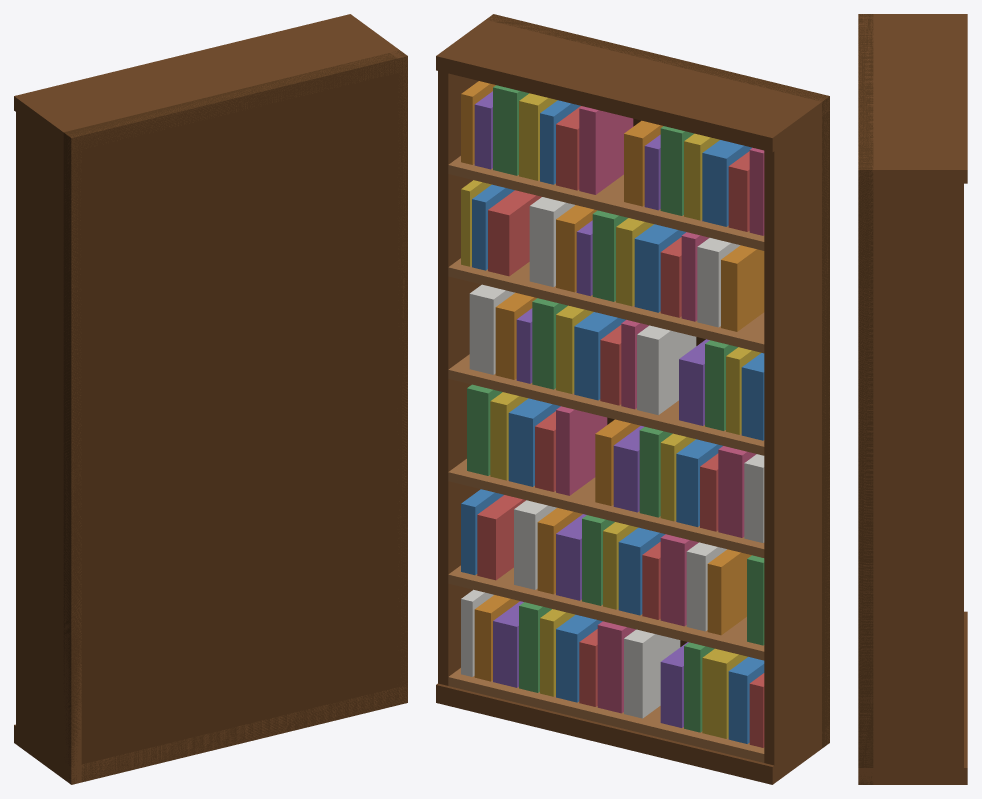
The model's file is ncb-bookcase-tall.glb.
3 views of the same model, side by side, from view 1: azimuth 30°, elevation 25°; view 2: azimuth 150°, elevation 25°; view 3: azimuth 270°, elevation 25° (orthographic). The views are drawn at different scales.
Parts seen in each view (by area): view 1: box-prop; view 2: box-prop; view 3: box-prop.
Boxes of the visible parts, <box> form: box-prop: <box>14,14,407,784</box>; box-prop: <box>436,14,829,784</box>; box-prop: <box>858,14,967,784</box>.
Size of the model in its own units: 1.96 by 3.6 by 0.58.
